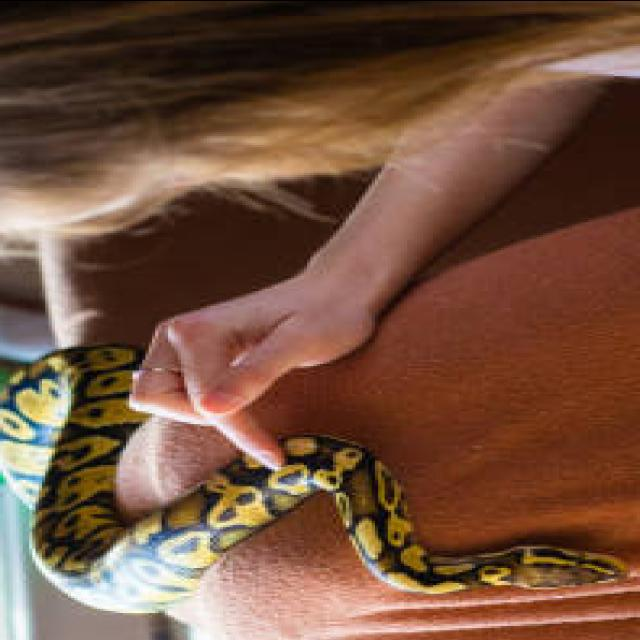snake: (0, 342, 627, 616)
